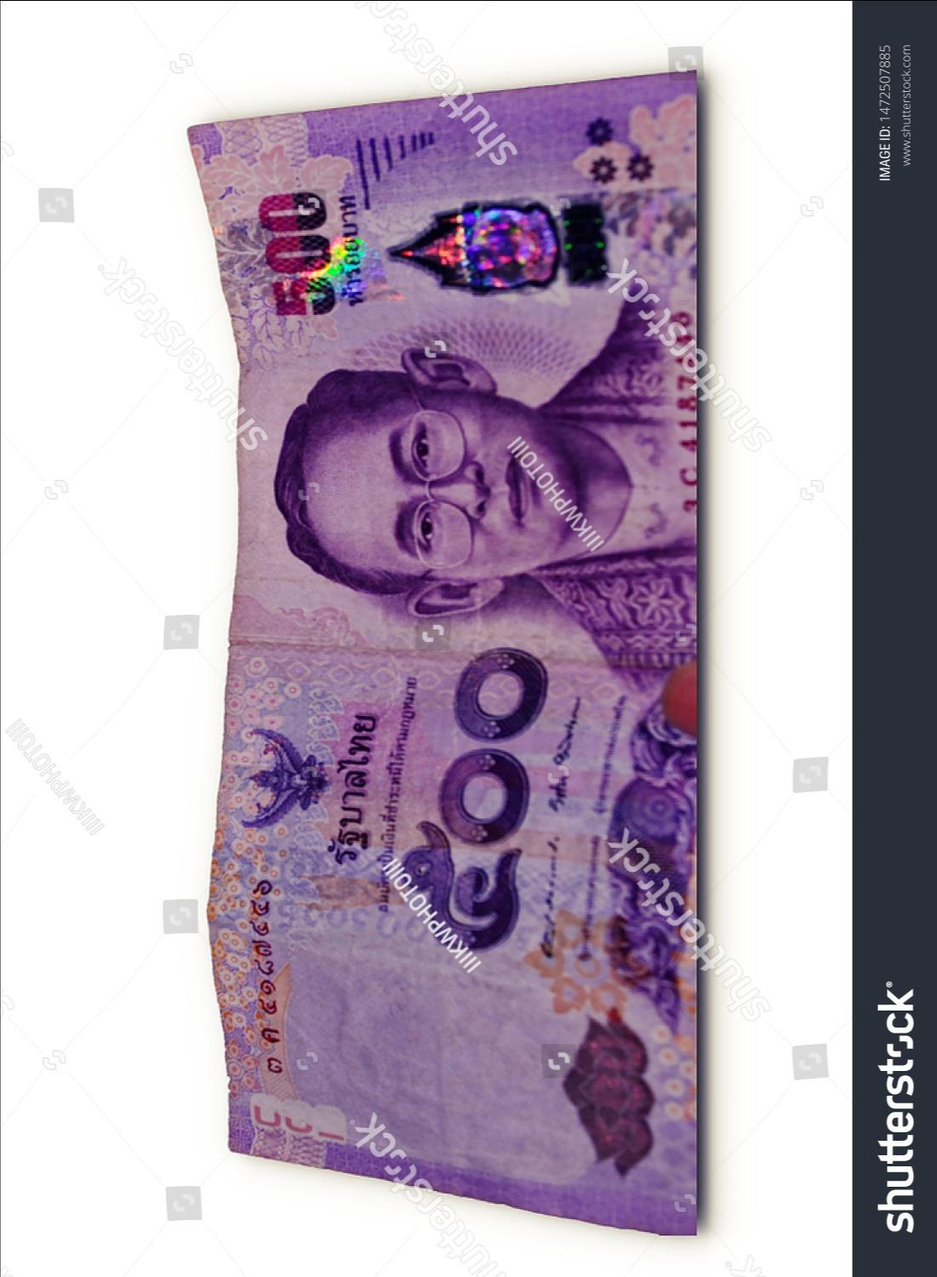500BahtTai: (230, 73, 704, 1192)
